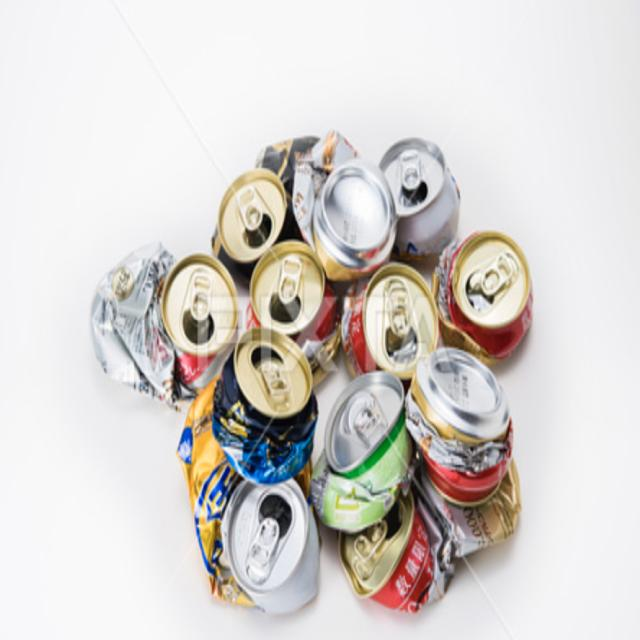recyclable: (75, 226, 240, 416), (193, 446, 322, 620), (281, 107, 394, 282), (403, 351, 524, 508), (218, 308, 315, 492), (313, 360, 413, 532), (429, 217, 544, 365), (344, 233, 441, 384), (373, 121, 467, 250), (209, 159, 285, 275)
